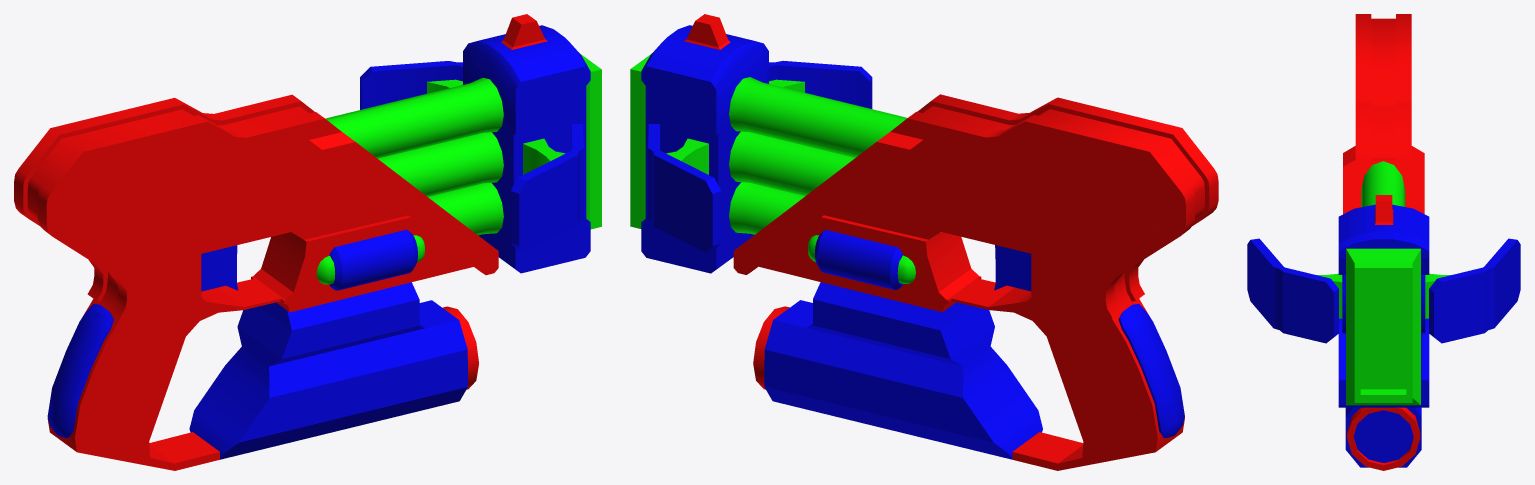
Rendered from SM_pistol.FBX.
The picture shows the model from 3 angles, left to right: view 1: azimuth 30°, elevation 25°; view 2: azimuth 150°, elevation 25°; view 3: azimuth 270°, elevation 25°; orthographic projection. The views are drawn at different scales.
Parts seen in each view (by area): view 1: reciever_low001; view 2: reciever_low001; view 3: reciever_low001.
Part boxes in pixels (bbox=[...]): reciever_low001: bbox=[14, 14, 601, 470]; reciever_low001: bbox=[630, 14, 1218, 470]; reciever_low001: bbox=[1247, 14, 1520, 470].
Bounding box in the file's own units: 37.1 × 22.56 × 18.49.
